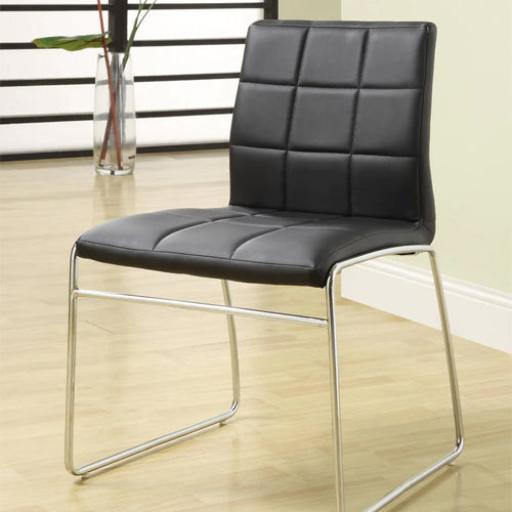chair: (58, 20, 479, 508)
